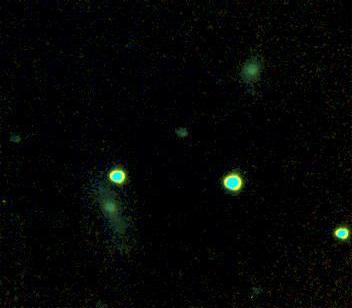star: (84, 176, 114, 206)
